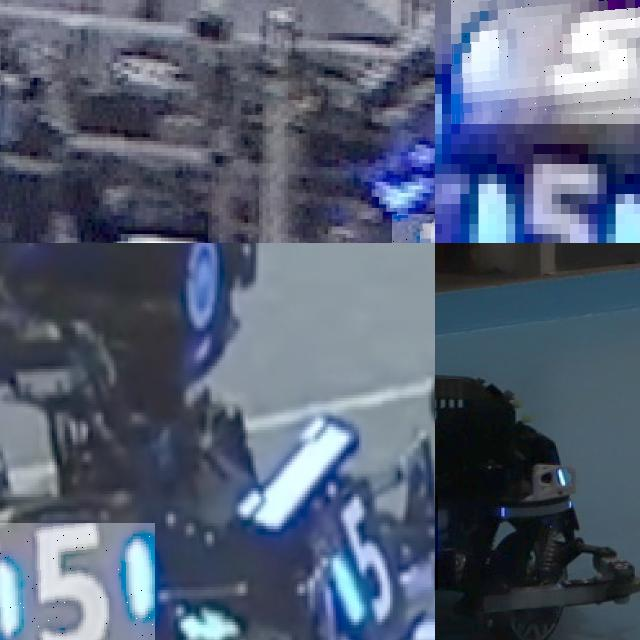B5: (451, 0, 640, 124), (451, 144, 640, 243), (0, 523, 155, 640)
